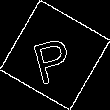P_N: (31, 26, 79, 84)
